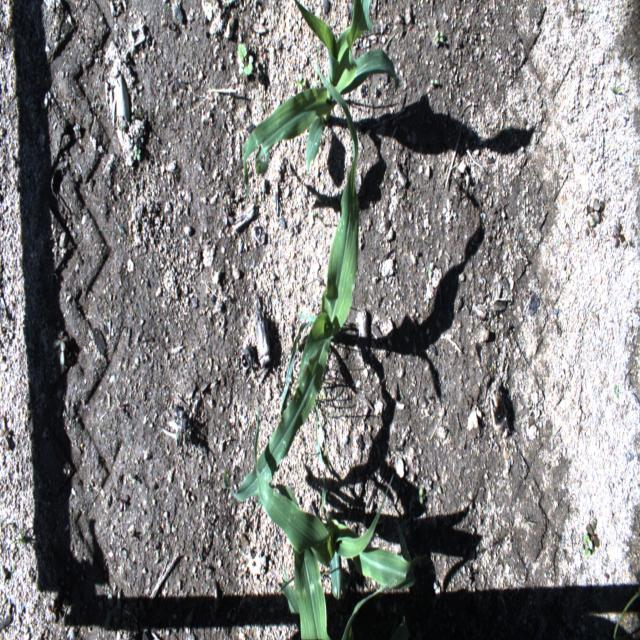crop: (224, 54, 358, 502), (254, 409, 428, 627), (241, 0, 400, 206), (253, 484, 331, 640), (342, 572, 399, 639), (390, 616, 410, 639)
weed: (8, 524, 33, 582), (612, 590, 640, 640), (316, 402, 332, 471), (237, 42, 253, 76), (53, 330, 68, 365), (586, 518, 600, 552), (586, 199, 604, 223), (612, 75, 625, 102), (579, 534, 593, 556), (612, 223, 624, 248), (585, 220, 597, 236), (296, 73, 305, 89), (434, 30, 444, 43), (418, 486, 422, 506), (428, 262, 433, 278), (430, 78, 438, 84)
